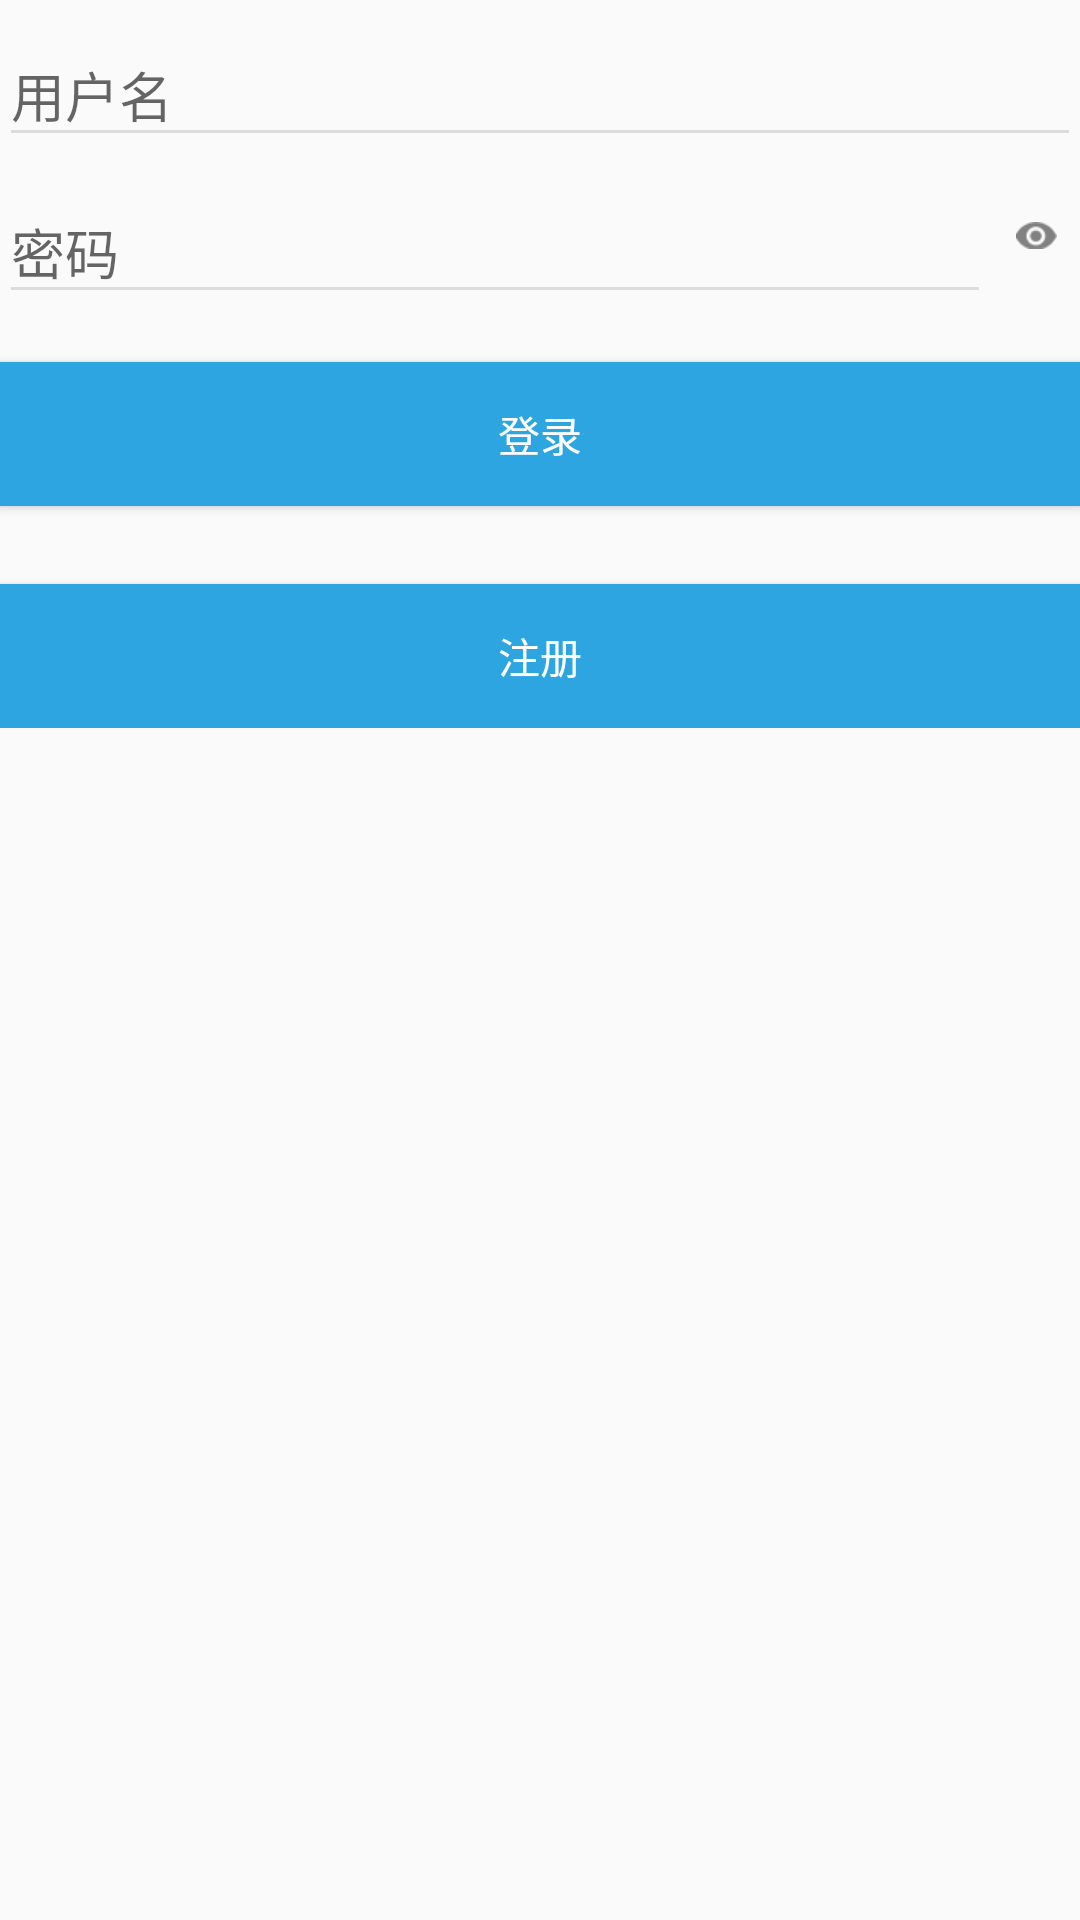

Icons on this 1080w x 1920h Android screen, each with the point to tap as point (x, y):
login hide: point (1036, 235)
